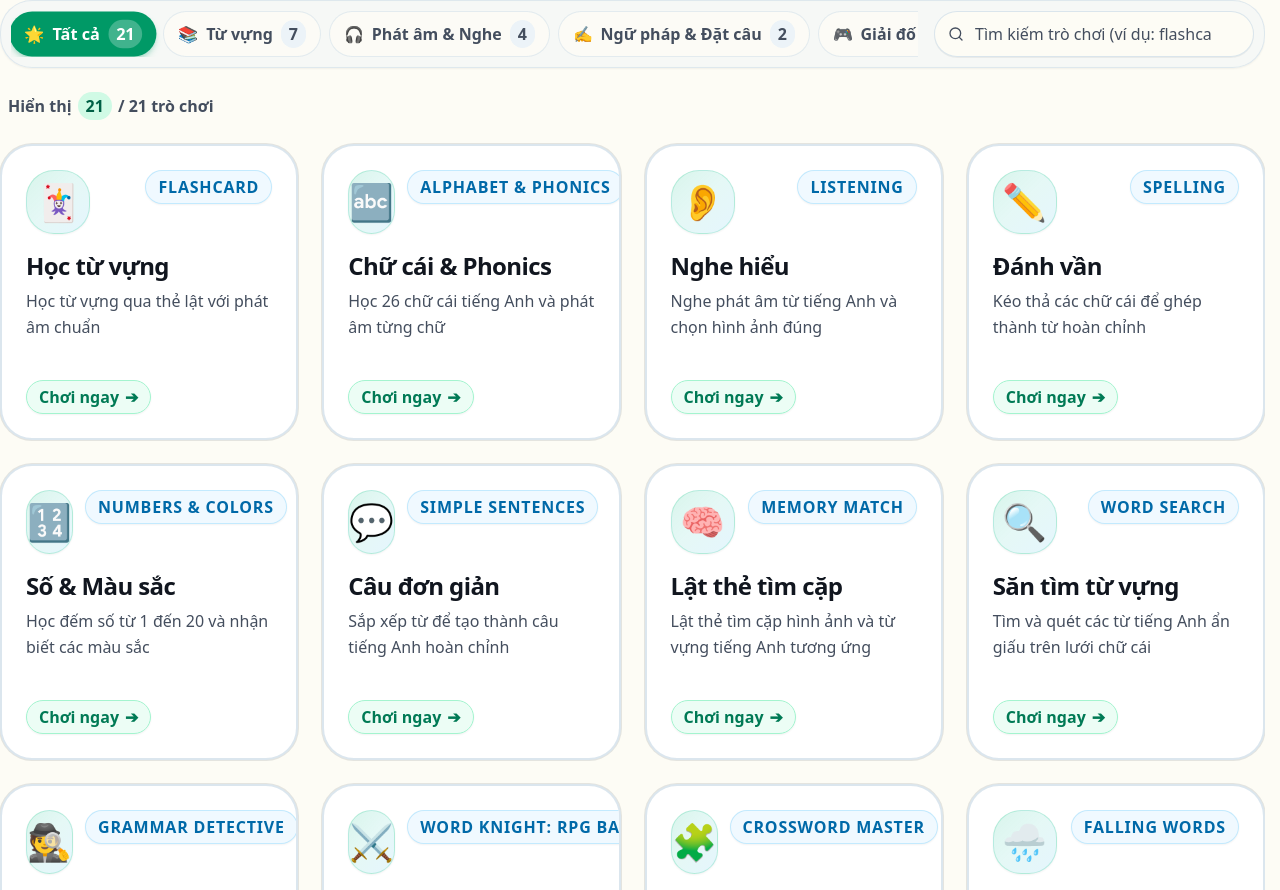
Test case: GameCatalogSection › filters games by category when tab clicked
This screenshot has width=1280, height=890.
Click the tab "📚 Từ vựng 7" at (242, 34), box [163,11,321,57]
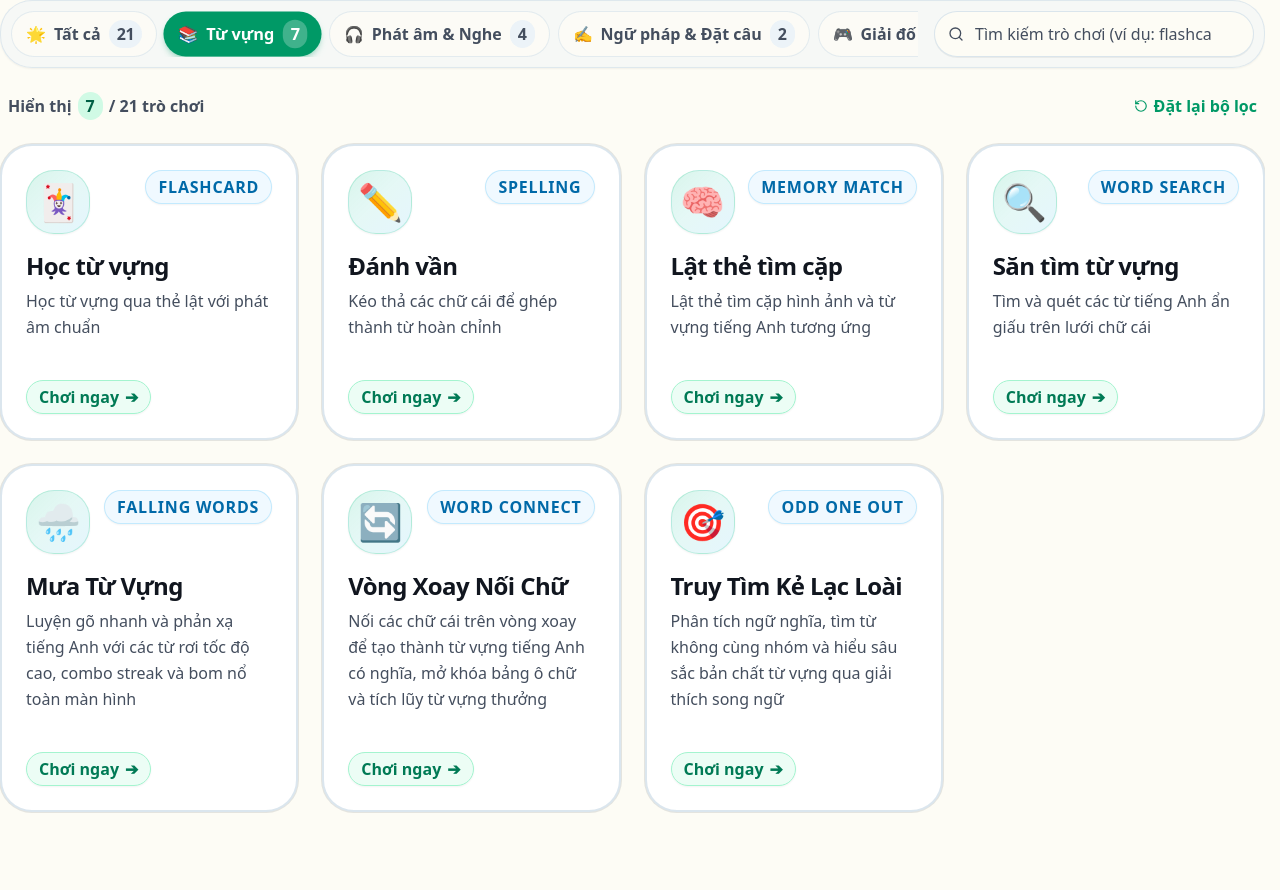
Check: the number of links is 7
